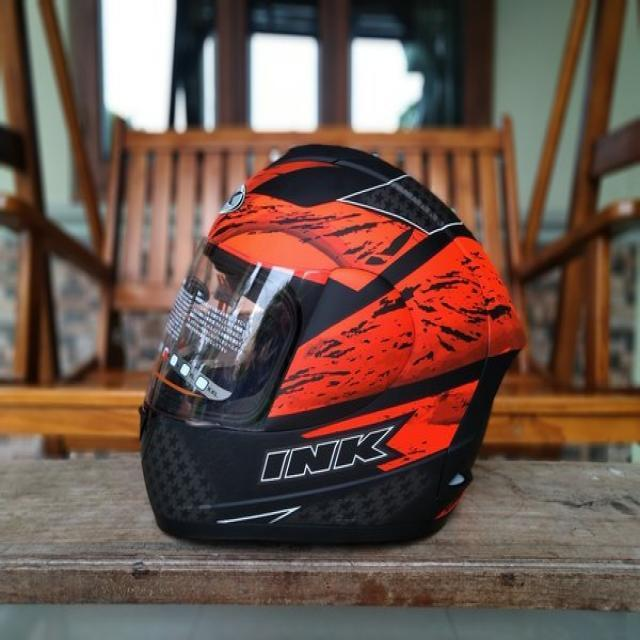Helm: (134, 137, 531, 548)
